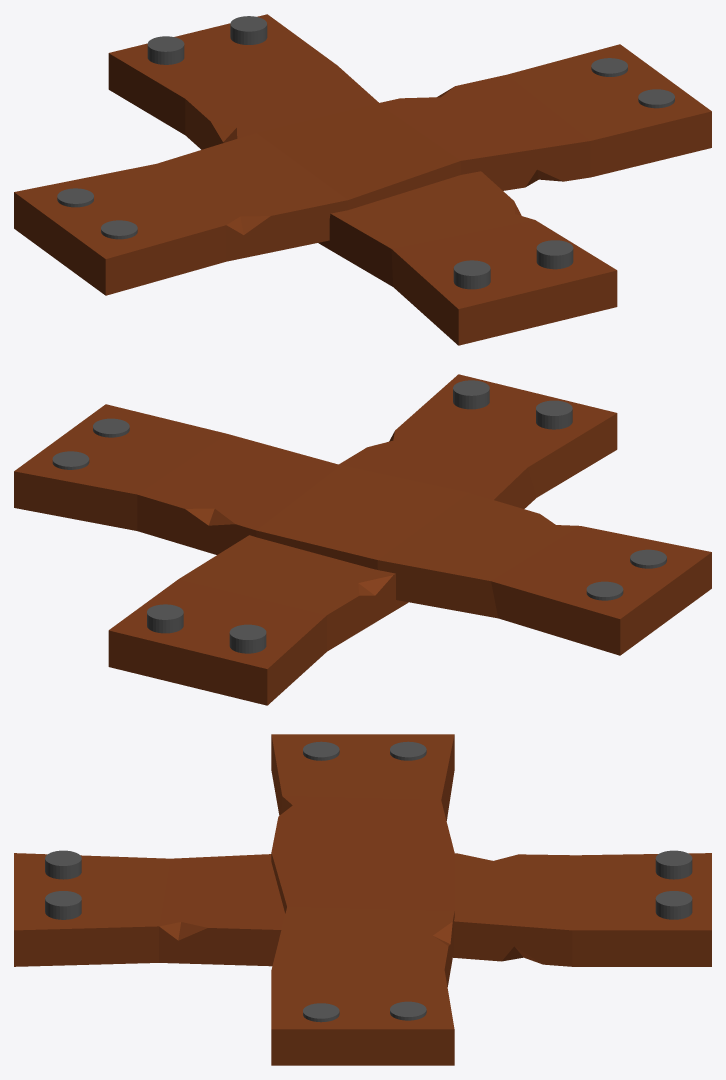
File: yama.fbx
3 renders of one model, top to bottom at view 1: azimuth 30°, elevation 25°; view 2: azimuth 150°, elevation 25°; view 3: azimuth 270°, elevation 25°, orthographic.
Visible parts, largest first — view 1: Cylinder.004; view 2: Cylinder.004; view 3: Cylinder.004.
Part boxes in pixels (<box>): Cylinder.004: <box>14,14,711,345</box>; Cylinder.004: <box>14,374,711,705</box>; Cylinder.004: <box>14,734,711,1065</box>.
Bounding box in the file's own units: 346 × 27.91 × 346.
